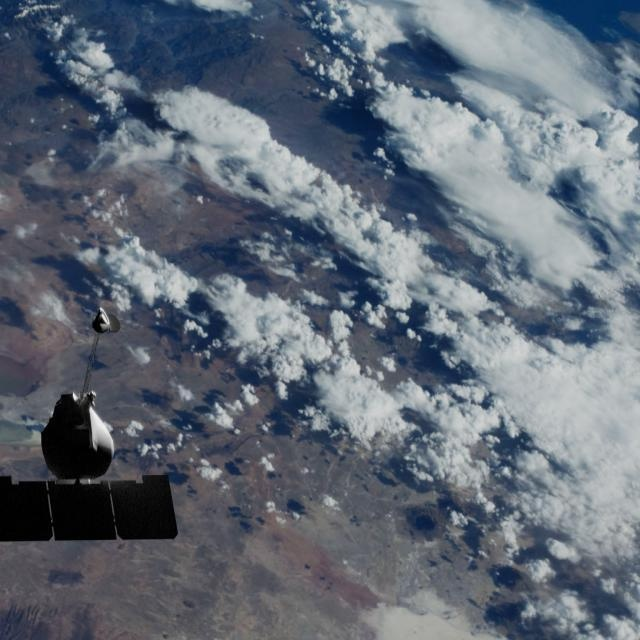satellite: (0, 286, 194, 592)
